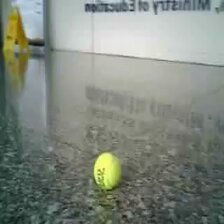tennis: (94, 152, 122, 190)
